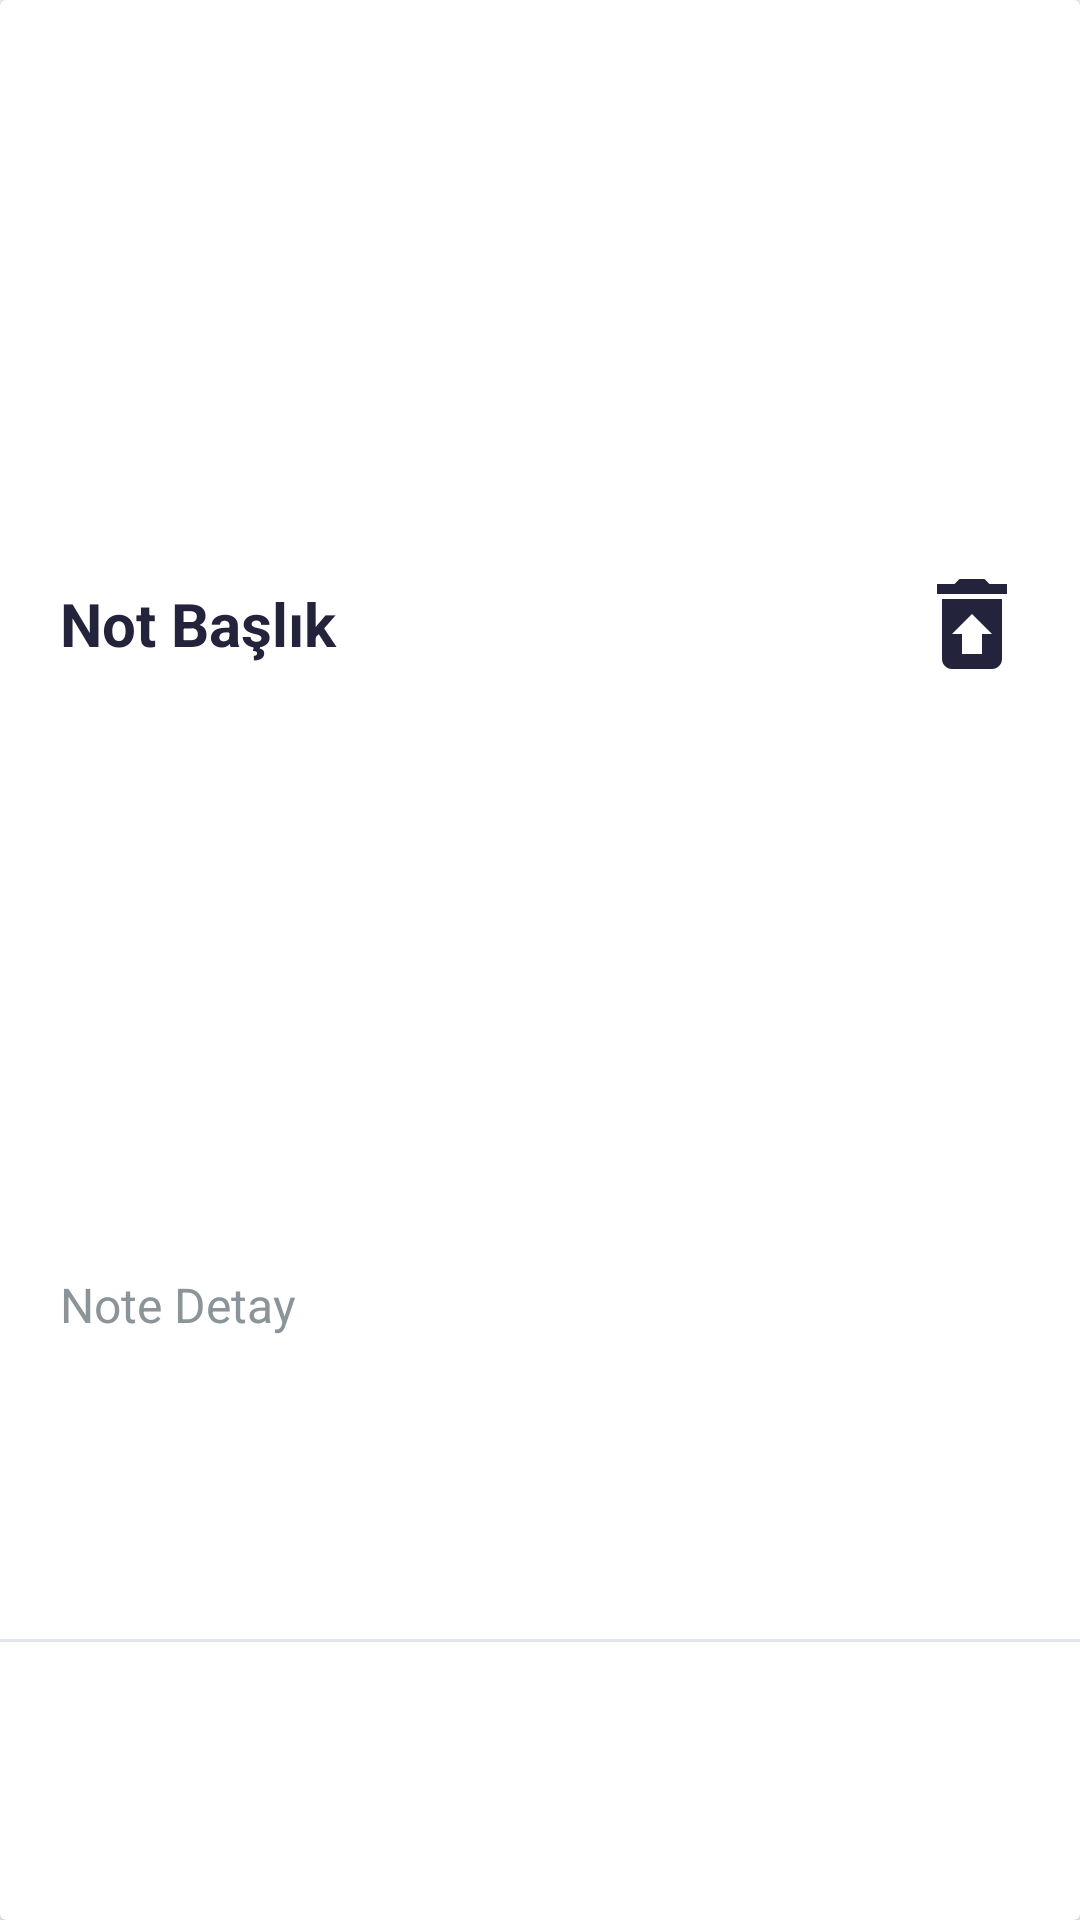

Icons on this 1080w x 1920h Android screen, each with the point to tap as (x,y):
restore from trash: (972,624)
